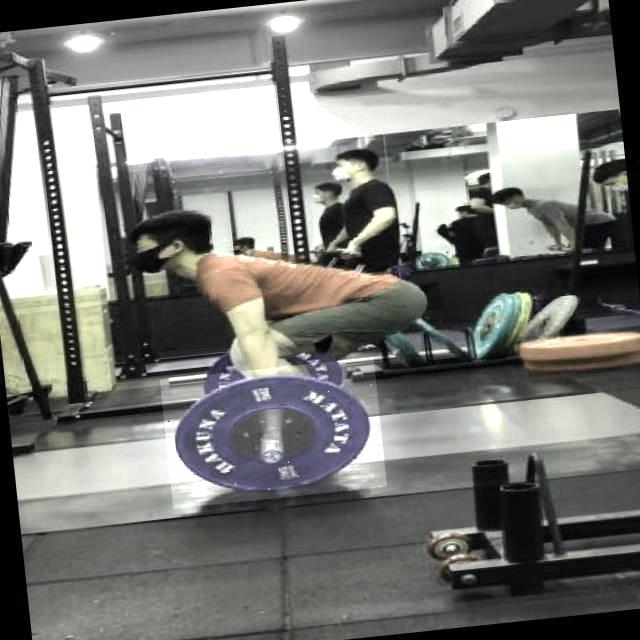barbell: (161, 357, 387, 510)
